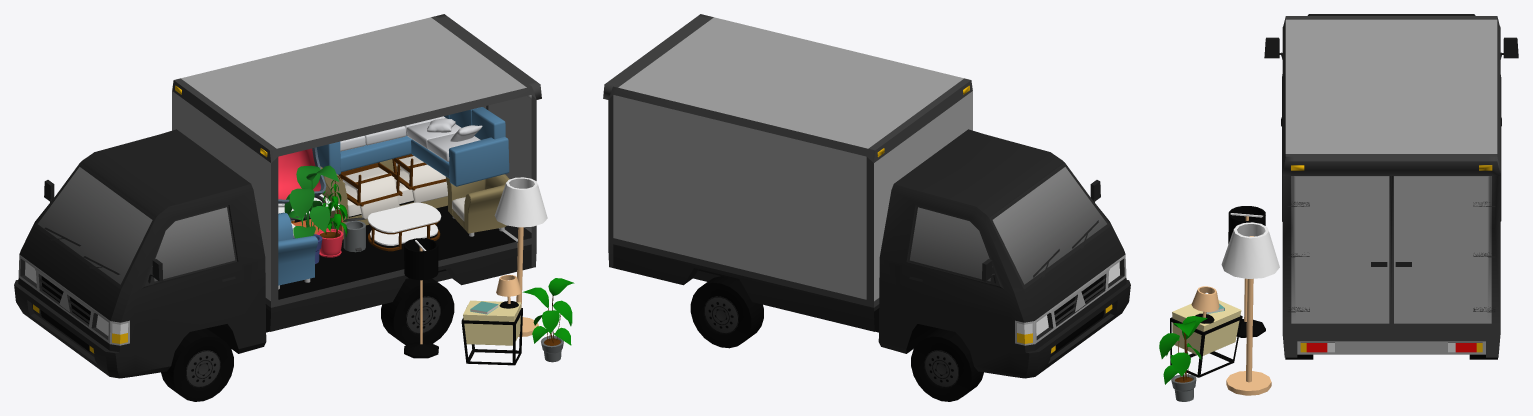
File: fulltruck.glb
The picture shows the model from 3 angles, left to right: view 1: azimuth 30°, elevation 25°; view 2: azimuth 150°, elevation 25°; view 3: azimuth 270°, elevation 25°; orthographic projection. The views are drawn at different scales.
Parts seen in each view (by area): view 1: Object_3.001, Sofa_30-Sofa_0, Sofa-3_16-Photo-Frm_0, Center-Table_1-White-Metalic_0, Plant-1.002_56-mid-Green_0, Night-Lemp-1_1-White-Metalic_0, Sofa-1.001_30-Sofa_0, Sofa_31-Pillow-White-Off_0, Tipai_14-Lgt-Yellow_0, Chair_20-Curtaine_0, Plant-1.001_12-Green-Mid_0, Lamp_2-Black-Metalic_0 (+15 smaller); view 2: Object_3.001; view 3: Object_3.001, Night-Lemp-1_1-White-Metalic_0, Tipai_14-Lgt-Yellow_0, Night-Lemp-1_32-Pletinum_0, Plant-1.001_12-Green-Mid_0, Tipai_7-Black-Rug_0, Lamp_2-Black-Metalic_0, NIght-Lamp_32-Pletinum_0, Plant-1.001_10-Pot_0, Lamp_7-Black-Rug_0.
Boxes of the visible parts, <box> form: Object_3.001: <box>14,14,541,401</box>; Sofa_30-Sofa_0: <box>317,107,509,186</box>; Sofa-3_16-Photo-Frm_0: <box>446,174,509,233</box>; Center-Table_1-White-Metalic_0: <box>367,202,441,245</box>; Plant-1.002_56-mid-Green_0: <box>284,165,339,238</box>; Night-Lemp-1_1-White-Metalic_0: <box>494,177,547,227</box>; Sofa-1.001_30-Sofa_0: <box>278,212,317,285</box>; Sofa_31-Pillow-White-Off_0: <box>340,116,480,161</box>; Tipai_14-Lgt-Yellow_0: <box>463,300,521,345</box>; Chair_20-Curtaine_0: <box>342,167,399,219</box>; Plant-1.001_12-Green-Mid_0: <box>522,278,574,345</box>; Lamp_2-Black-Metalic_0: <box>404,238,438,280</box>; Object_3.001: <box>603,14,1130,401</box>; Object_3.001: <box>1264,14,1518,359</box>; Night-Lemp-1_1-White-Metalic_0: <box>1221,222,1279,278</box>; Tipai_14-Lgt-Yellow_0: <box>1172,300,1241,355</box>; Night-Lemp-1_32-Pletinum_0: <box>1226,236,1271,395</box>; Plant-1.001_12-Green-Mid_0: <box>1159,316,1207,384</box>; Tipai_7-Black-Rug_0: <box>1170,315,1242,377</box>; Lamp_2-Black-Metalic_0: <box>1228,206,1265,243</box>; NIght-Lamp_32-Pletinum_0: <box>1191,286,1219,317</box>; Plant-1.001_10-Pot_0: <box>1171,374,1196,401</box>; Lamp_7-Black-Rug_0: <box>1236,319,1265,337</box>.
Size of the model in its own units: 4.17 by 2.15 by 2.72.
Materials: 37 (1 with a texture image).
